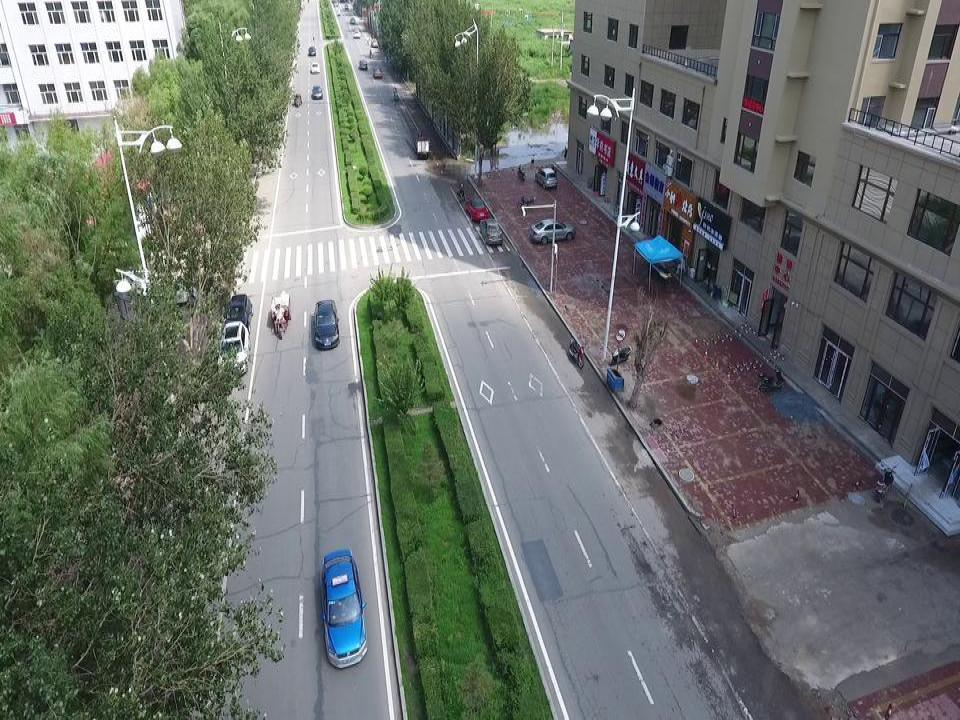car: (319, 548, 368, 669), (217, 321, 251, 376), (314, 300, 339, 351), (530, 219, 576, 244), (225, 293, 253, 332), (479, 219, 503, 245), (465, 199, 488, 220), (535, 168, 558, 188), (312, 85, 322, 99), (310, 62, 320, 74), (373, 66, 382, 78), (358, 60, 367, 69), (308, 47, 316, 56), (353, 30, 360, 38), (371, 40, 378, 47), (350, 17, 355, 24)
